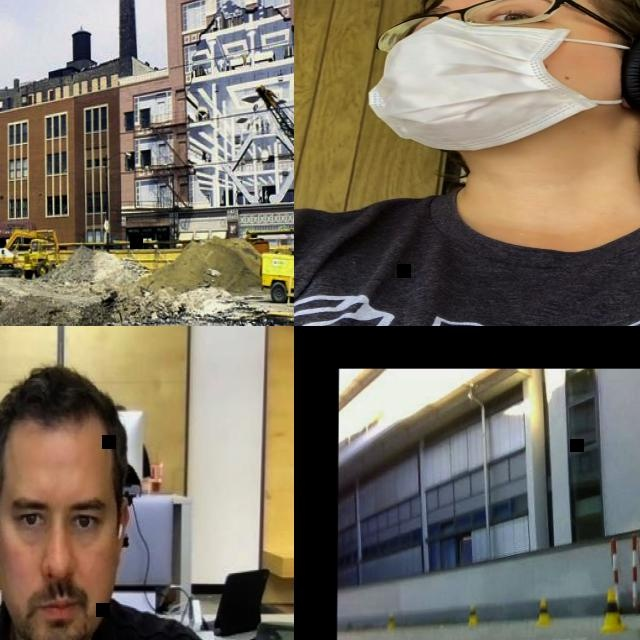Mask: (362, 13, 631, 149)
NO-Hardhat: (0, 364, 116, 458), (429, 0, 640, 27)
NO-Mask: (14, 582, 103, 640)
NO-Safety Vest: (294, 198, 640, 326)
Person: (294, 0, 640, 326), (0, 364, 259, 640), (115, 402, 154, 474)
Safety Cone: (600, 589, 628, 631), (536, 599, 552, 624), (468, 605, 478, 626), (387, 614, 395, 630)
machinery: (0, 229, 62, 277), (23, 238, 57, 278)
